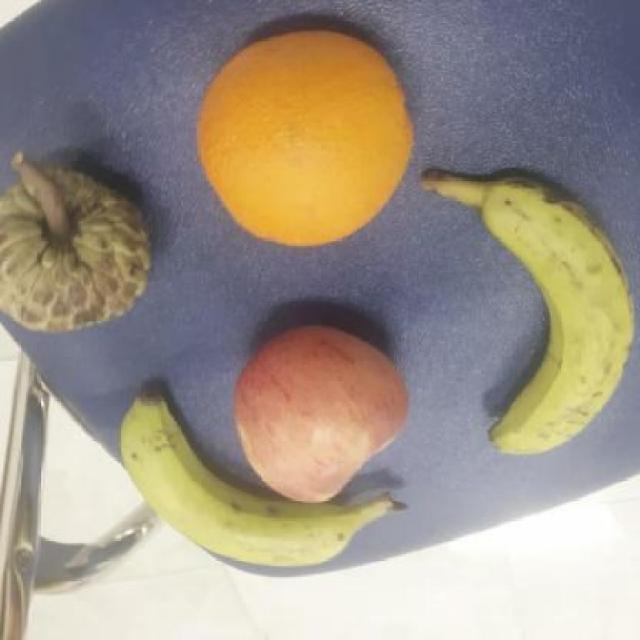apple: (230, 326, 412, 505)
banana: (476, 175, 639, 473)
oren: (192, 25, 416, 249)
sugar apple: (1, 157, 150, 346)
